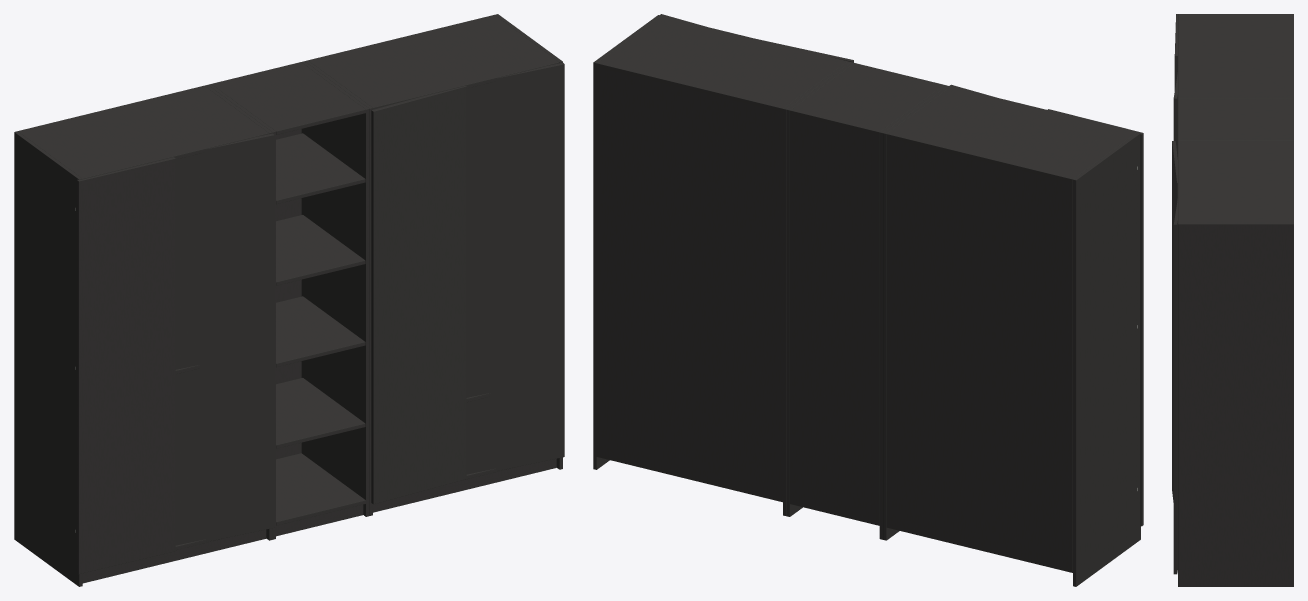
Rendered from small_black_wardrobe.glb.
The picture shows the model from 3 angles, left to right: view 1: azimuth 30°, elevation 25°; view 2: azimuth 150°, elevation 25°; view 3: azimuth 270°, elevation 25°; orthographic projection. The views are drawn at different scales.
Parts seen in each view (by area): view 1: Door_2_plain_laminate_leaf, Door_1_plain_laminate_leaf, Door_4_plain_laminate_leaf, Door_3_plain_laminate_leaf, Left_left_carcass_side, Center_right_carcass_side, Right_top, Left_top, Center_top, Center_bottom, Center_adjustable_shelf_2, Center_adjustable_shelf_3 (+8 smaller); view 2: Right_back, Left_back, Center_back, Left_left_carcass_side, Right_top, Left_top, Center_top, Right_right_carcass_side, Center_right_carcass_side, Left_right_carcass_side, Center_left_carcass_side, Right_left_carcass_side (+2 smaller); view 3: Right_right_carcass_side, Right_top, Left_top, Center_top, Door_4_plain_laminate_leaf, Door_3_plain_laminate_leaf, Center_right_carcass_side, Left_right_carcass_side, Door_2_plain_laminate_leaf, Door_1_plain_laminate_leaf, Center_left_carcass_side, Left_left_carcass_side (+1 smaller).
Boxes of the visible parts, x1,y1,x2,y2 form: Door_2_plain_laminate_leaf: (175, 133, 274, 545); Door_1_plain_laminate_leaf: (77, 157, 175, 573); Door_4_plain_laminate_leaf: (466, 62, 564, 474); Door_3_plain_laminate_leaf: (371, 86, 466, 504); Left_left_carcass_side: (14, 131, 82, 586); Center_right_carcass_side: (301, 61, 369, 516); Right_top: (308, 15, 559, 109); Left_top: (18, 86, 269, 178); Center_top: (212, 62, 365, 134); Center_bottom: (276, 453, 365, 525); Center_adjustable_shelf_2: (276, 296, 365, 367); Center_adjustable_shelf_3: (276, 215, 365, 285); Right_back: (596, 63, 782, 502); Left_back: (886, 133, 1072, 572); Center_back: (790, 110, 879, 525); Left_left_carcass_side: (1073, 132, 1140, 586); Right_top: (597, 16, 847, 111); Left_top: (886, 86, 1137, 182); Center_top: (790, 63, 943, 134); Right_right_carcass_side: (593, 15, 661, 469); Center_right_carcass_side: (786, 62, 854, 516); Left_right_carcass_side: (883, 86, 950, 540); Center_left_carcass_side: (879, 85, 947, 539); Right_left_carcass_side: (783, 61, 850, 516); Right_right_carcass_side: (1178, 222, 1293, 586); Right_top: (1178, 141, 1293, 222); Left_top: (1178, 15, 1293, 96); Center_top: (1178, 99, 1293, 138); Door_4_plain_laminate_leaf: (1173, 198, 1177, 574); Door_3_plain_laminate_leaf: (1172, 141, 1177, 502); Center_right_carcass_side: (1178, 138, 1293, 140); Left_right_carcass_side: (1178, 96, 1293, 98); Door_2_plain_laminate_leaf: (1173, 72, 1177, 159); Door_1_plain_laminate_leaf: (1174, 14, 1177, 90); Center_left_carcass_side: (1178, 98, 1293, 99); Left_left_carcass_side: (1178, 14, 1293, 15).
Bounding box in the file's own units: 2.51 × 2.01 × 0.6121.
5 materials, 2 textured.
